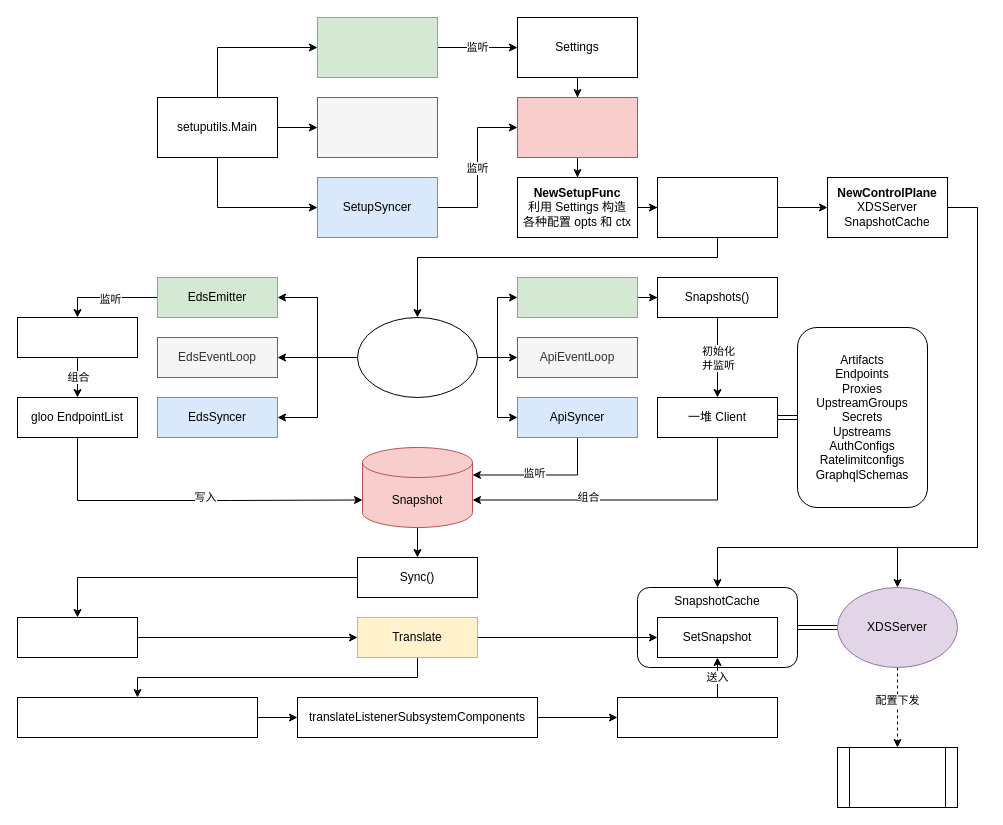
The diagram is 1003 pixels wide and 825 high, and some of its shapes have lost their labels. The box of each missing label's shape, as (x1, y1, x2, y2) in pixels:
ApiEmitter: (516, 276, 638, 318)
gateway-proxy: (836, 746, 958, 808)
generateXDSSnapshot: (616, 696, 778, 738)
k8s endpoints 等: (16, 316, 138, 358)
RunGloo: (356, 316, 478, 398)
Settings Snapshot: (516, 96, 638, 158)
Setup: (656, 176, 778, 238)
SetupEmitter: (316, 16, 438, 78)
SetupEventLoop: (316, 96, 438, 158)
syncEnvoy(): (16, 616, 138, 658)
translateClusterSubsystemComponents: (16, 696, 258, 738)
